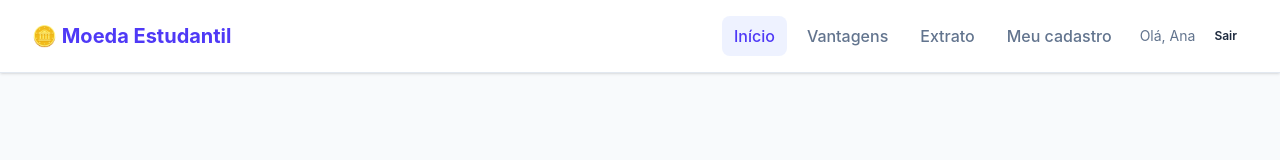
Test case: Cabecalho › mostra o nome e os links do aluno logado e encerra a sessão ao sair
Expected: the text "Olá, Ana" is shown, x1=1140 y1=26 x2=1195 y2=46
Expected: the link "Vantagens" is shown, x1=807 y1=26 x2=888 y2=46
Click the button "Sair". click: (1226,36)
box: x1=1203 y1=23 x2=1248 y2=49
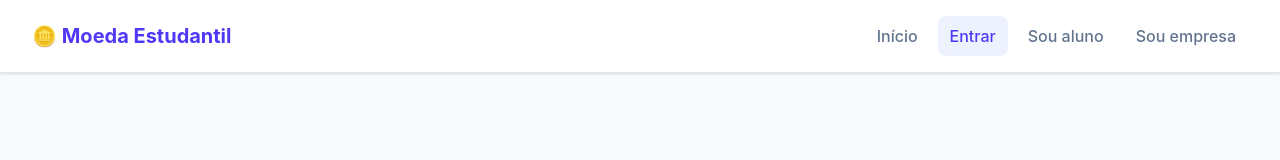
Expected: the link "Entrar" is shown, x1=938 y1=16 x2=1008 y2=56
